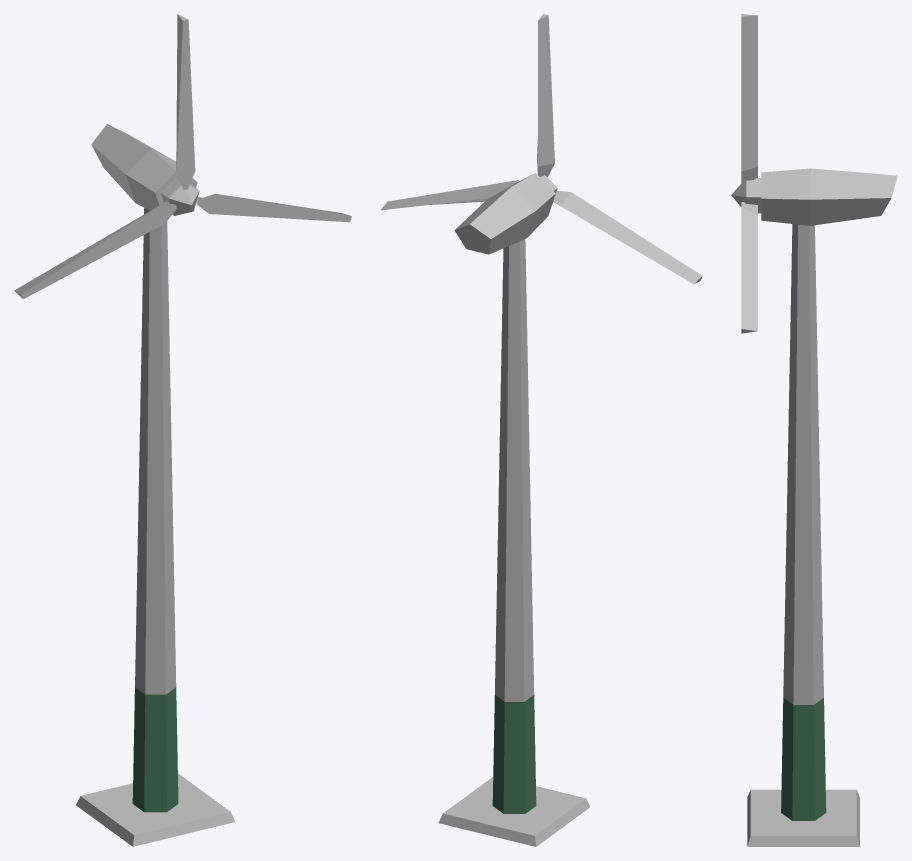
File: windmill01.fbx
3 views of the same model, side by side, from view 1: azimuth 30°, elevation 25°; view 2: azimuth 150°, elevation 25°; view 3: azimuth 270°, elevation 25° (orthographic). The views are drawn at different scales.
Parts seen in each view (by area): view 1: windmill_01, windmill_01-02, windmill_01-03; view 2: windmill_01, windmill_01-02, windmill_01-03; view 3: windmill_01, windmill_01-03, windmill_01-02.
Boxes of the visible parts, x1=… form: windmill_01: x1=76, y1=208, x2=235, y2=846; windmill_01-02: x1=14, y1=14, x2=351, y2=299; windmill_01-03: x1=91, y1=124, x2=197, y2=210; windmill_01: x1=438, y1=239, x2=590, y2=846; windmill_01-02: x1=381, y1=14, x2=702, y2=283; windmill_01-03: x1=454, y1=173, x2=555, y2=254; windmill_01: x1=747, y1=224, x2=859, y2=846; windmill_01-03: x1=761, y1=168, x2=897, y2=225; windmill_01-02: x1=731, y1=14, x2=761, y2=333.
Bounding box in the file's own units: 8.06 × 3.57 × 19.03.
